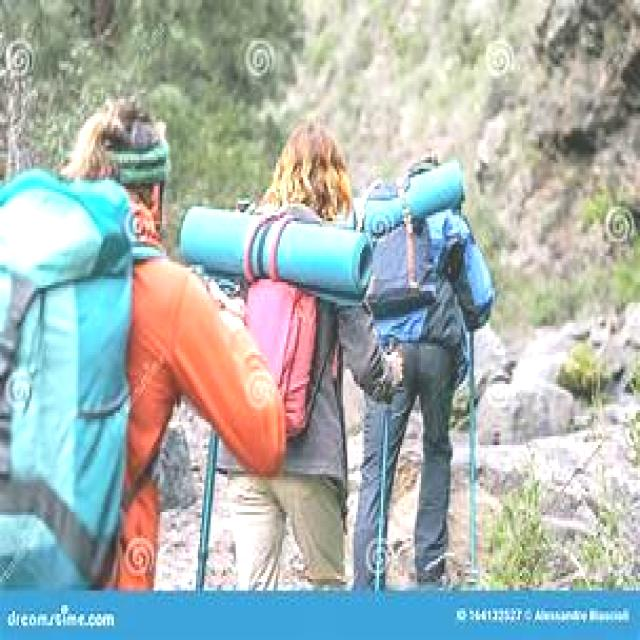backpack: (1, 167, 165, 591)
